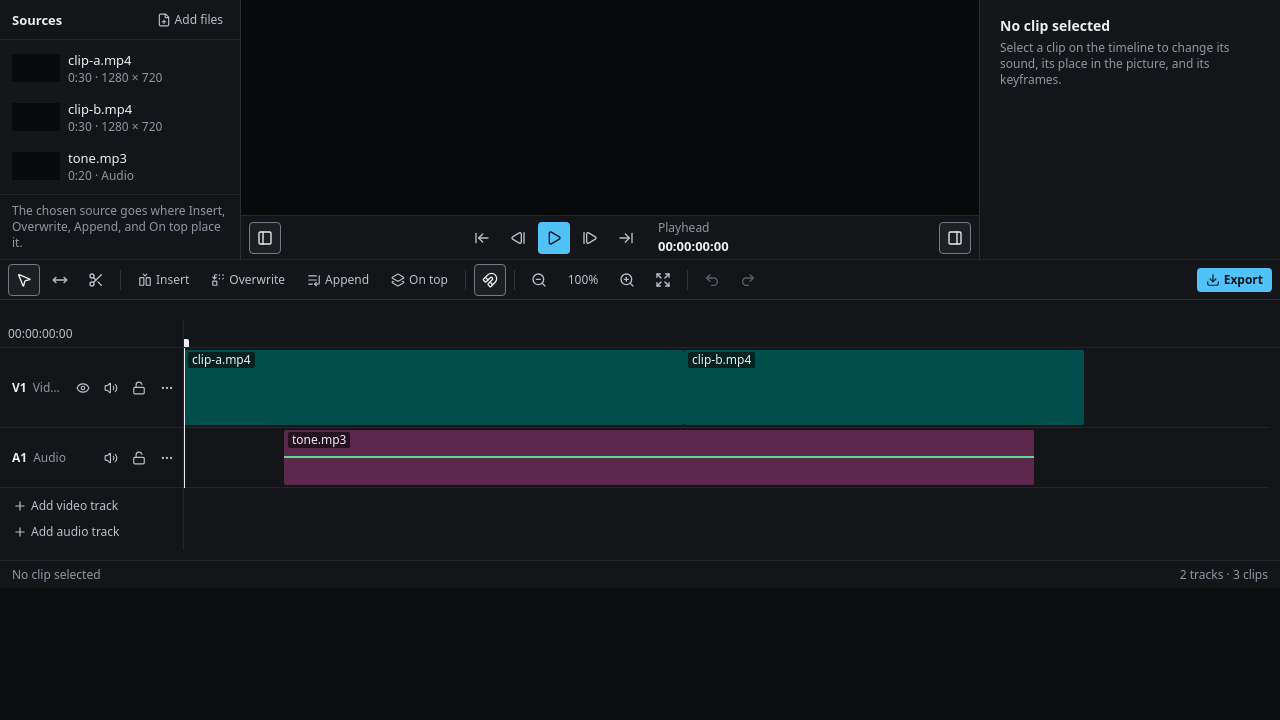
Scenario: the timeline workspace › exports through the dialog: save path, request, progress, and the saved file
Click the button "Export": click(1234, 280) [1197,268,1272,292]
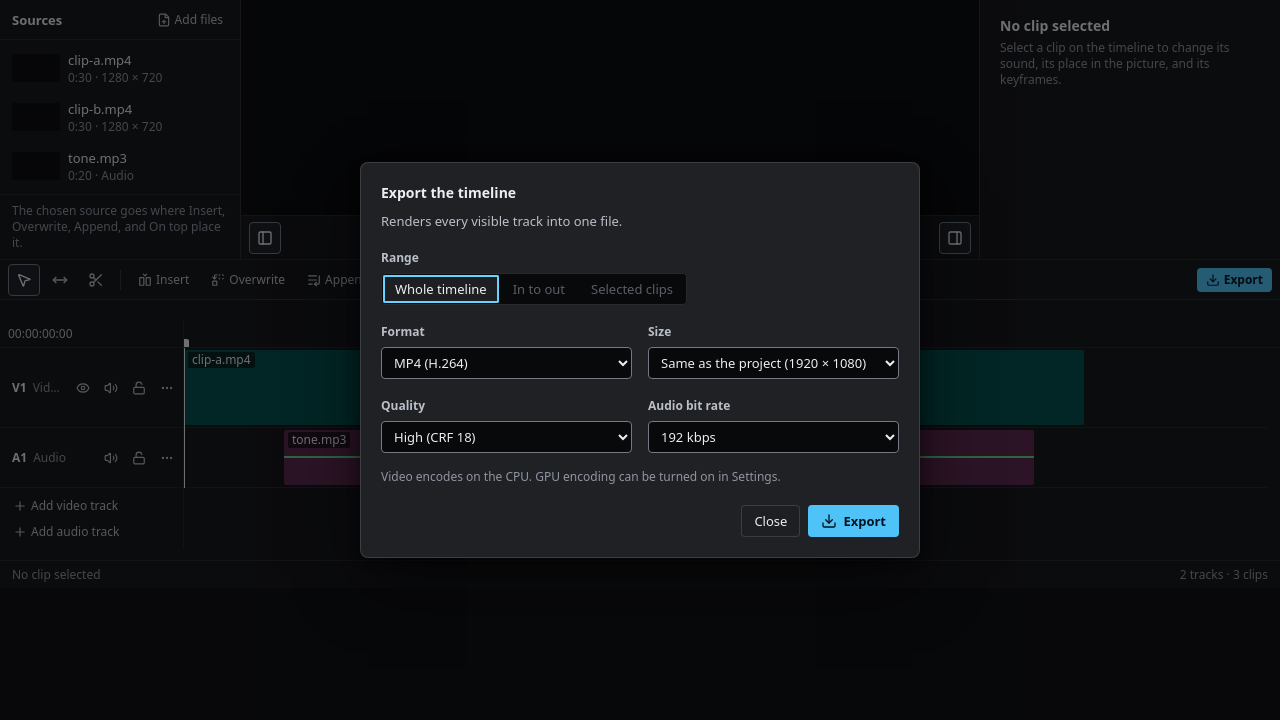
Expected: the radio button labelled "In to out" is disabled, [501,275,577,303]
Click the button "Export": click(854, 521) [808,505,899,537]
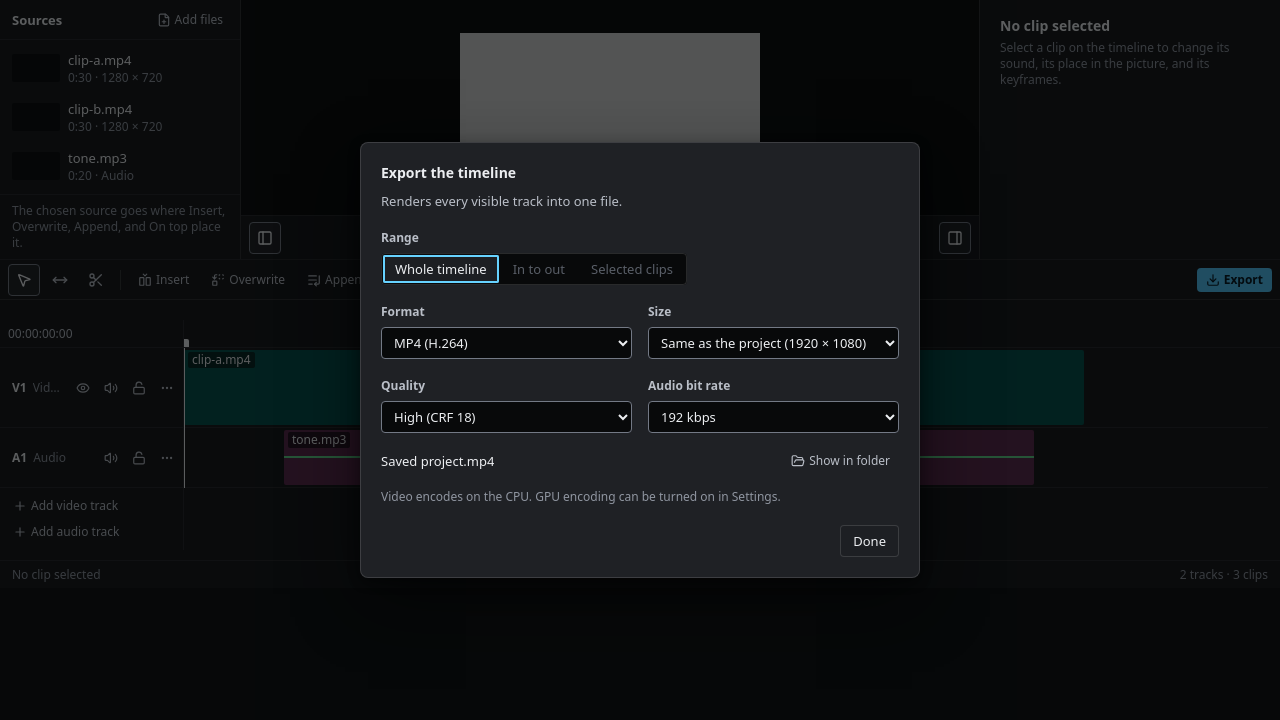
Expected: the text "Saved project.mp4" is shown, [381,451,494,471]
